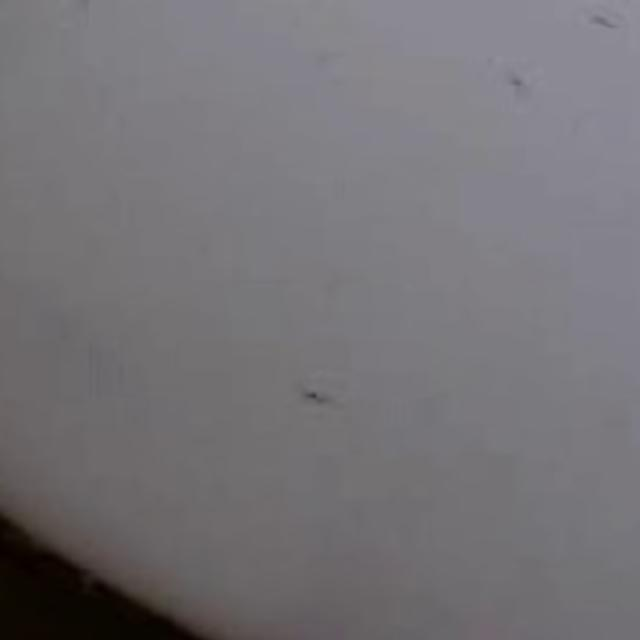shrimp-seed: (286, 382, 354, 418), (492, 52, 539, 101), (572, 8, 622, 31)
